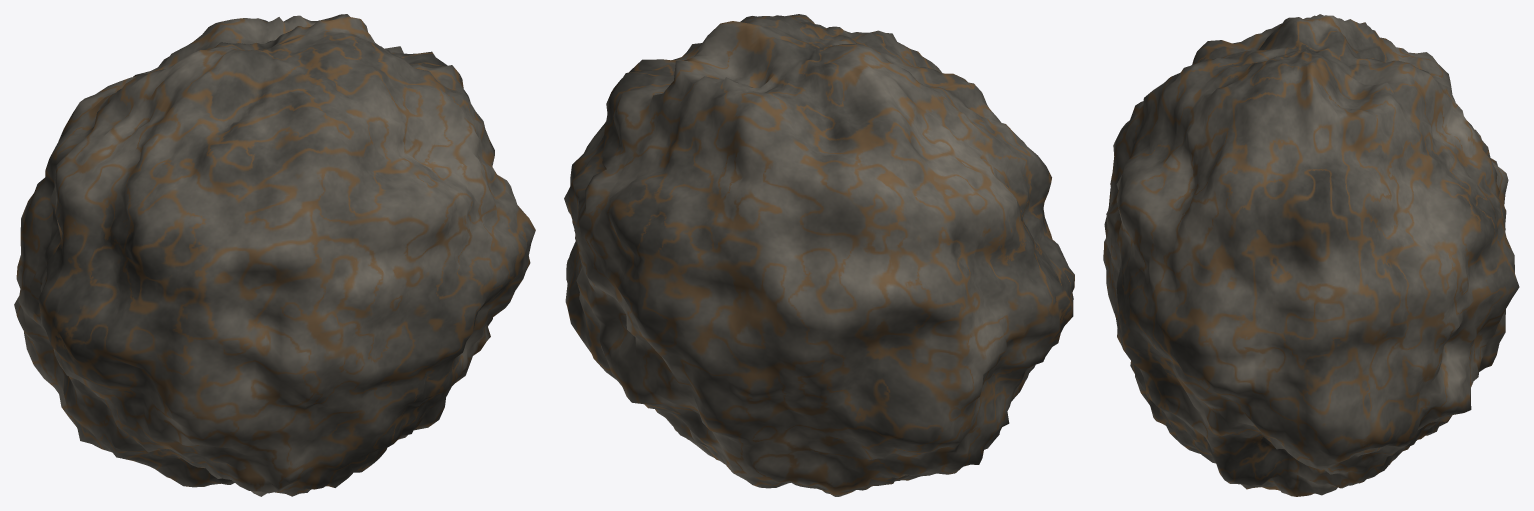
File: iron-asteroid.glb
3 views of the same model, side by side, from view 1: azimuth 30°, elevation 25°; view 2: azimuth 150°, elevation 25°; view 3: azimuth 270°, elevation 25° (orthographic).
Visible parts, largest first — view 1: iron-asteroid; view 2: iron-asteroid; view 3: iron-asteroid.
Part boxes in pixels (x1,y1,x2,y2): iron-asteroid: (14, 14, 535, 496); iron-asteroid: (564, 14, 1074, 496); iron-asteroid: (1103, 14, 1519, 496).
Bounding box in the file's own units: 1.92 × 1.7 × 1.48.
1 material, 1 textured.
